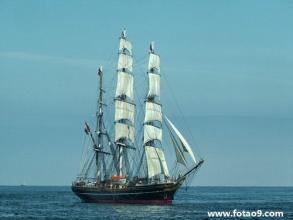fanchuan: (67, 28, 203, 202)
